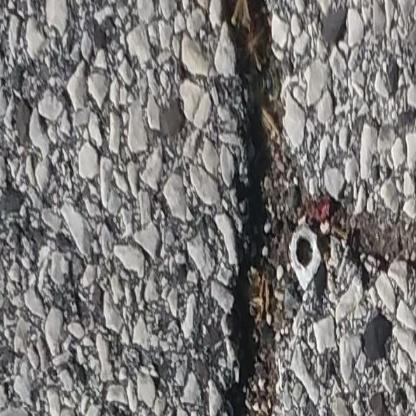Cracks: (225, 0, 416, 416)
